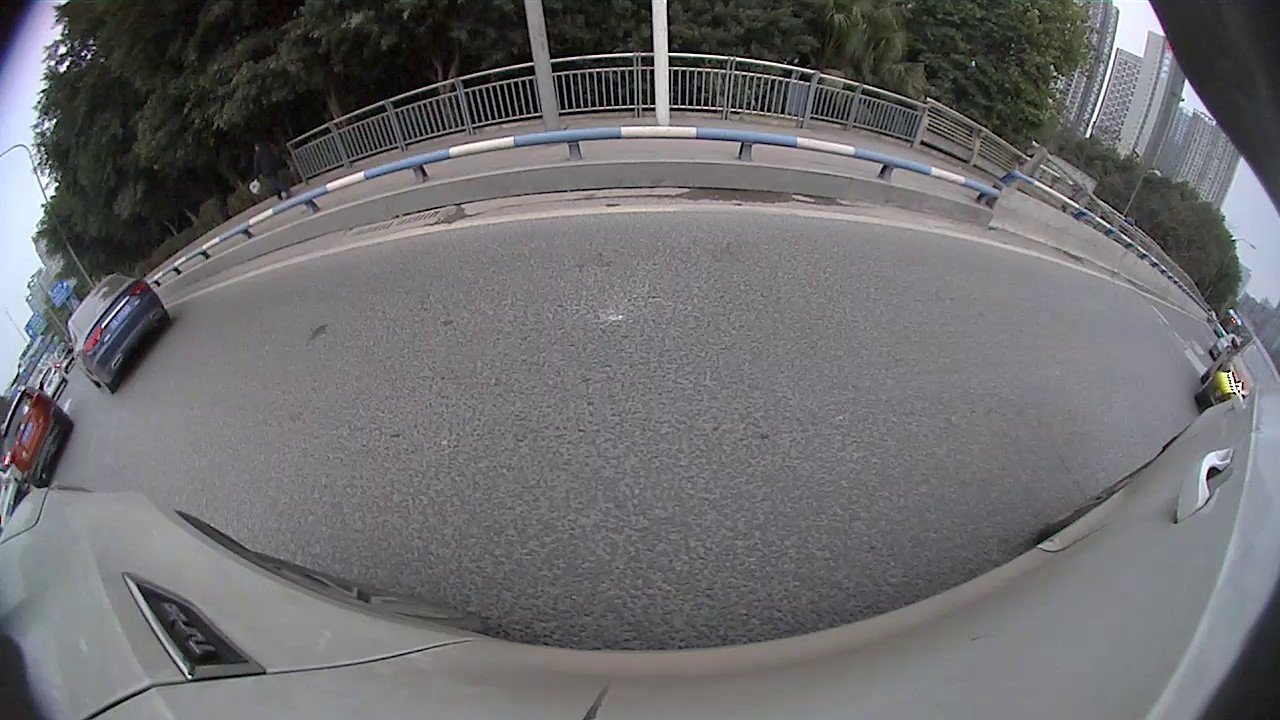car: (65, 272, 177, 393), (1, 383, 75, 492), (1193, 336, 1277, 426), (1, 450, 34, 531), (34, 366, 68, 400), (49, 340, 79, 375)
front: (1190, 386, 1213, 408)
person: (252, 138, 295, 205)
rear: (99, 369, 125, 395), (151, 306, 174, 334), (28, 470, 51, 492), (56, 414, 77, 433), (1197, 368, 1213, 384)
